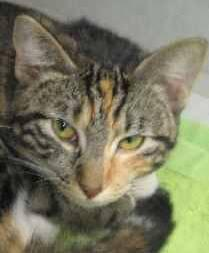cat: (0, 2, 207, 252)
